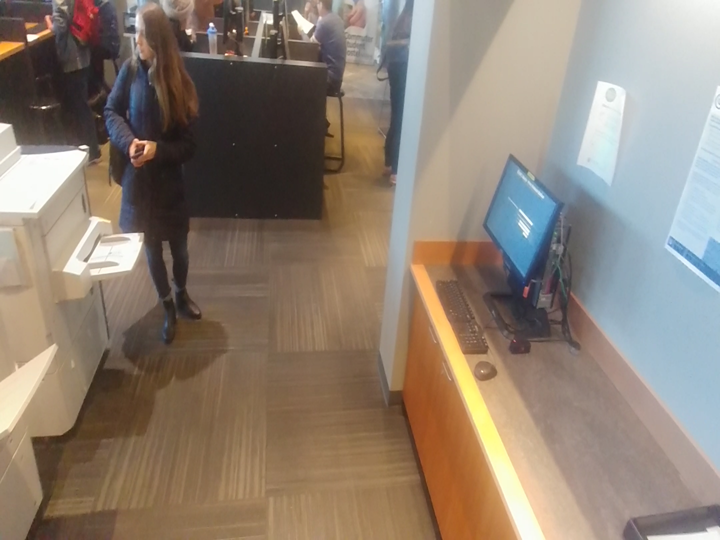face: (125, 3, 184, 75), (310, 0, 339, 19)
human: (101, 3, 210, 348), (40, 0, 109, 167), (308, 0, 350, 99)
